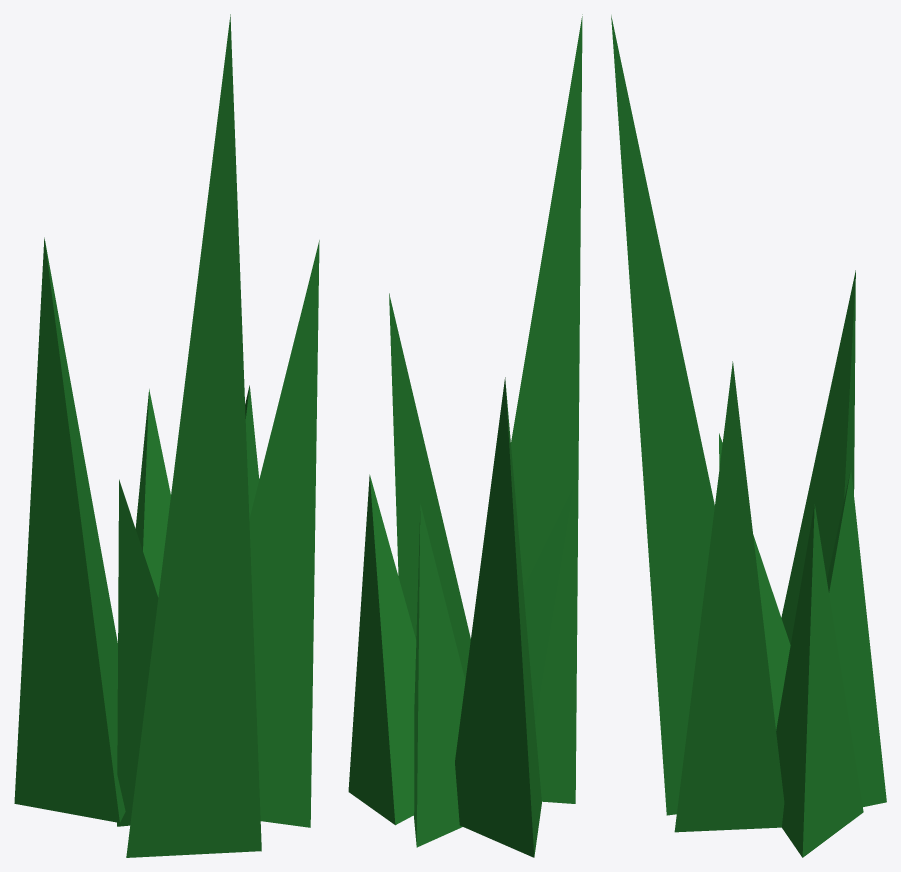
File: GrassLarge.fbx
3 views of the same model, side by side, from view 1: azimuth 30°, elevation 25°; view 2: azimuth 150°, elevation 25°; view 3: azimuth 270°, elevation 25° (orthographic). The views are drawn at different scales.
Parts seen in each view (by area): view 1: Prism001; view 2: Prism001; view 3: Prism001.
Boxes of the visible parts, <box> form: Prism001: <box>14,14,319,857</box>; Prism001: <box>348,14,582,857</box>; Prism001: <box>611,15,886,857</box>.
Bounding box in the file's own units: 10.17 × 34.68 × 11.18.
